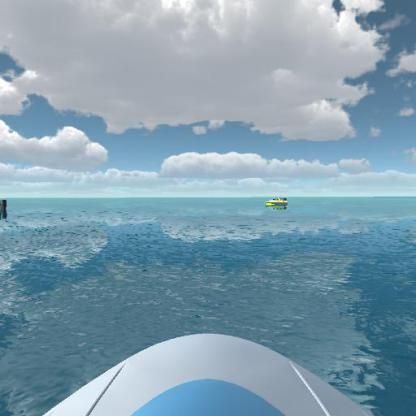usv2: (260, 193, 293, 215)
